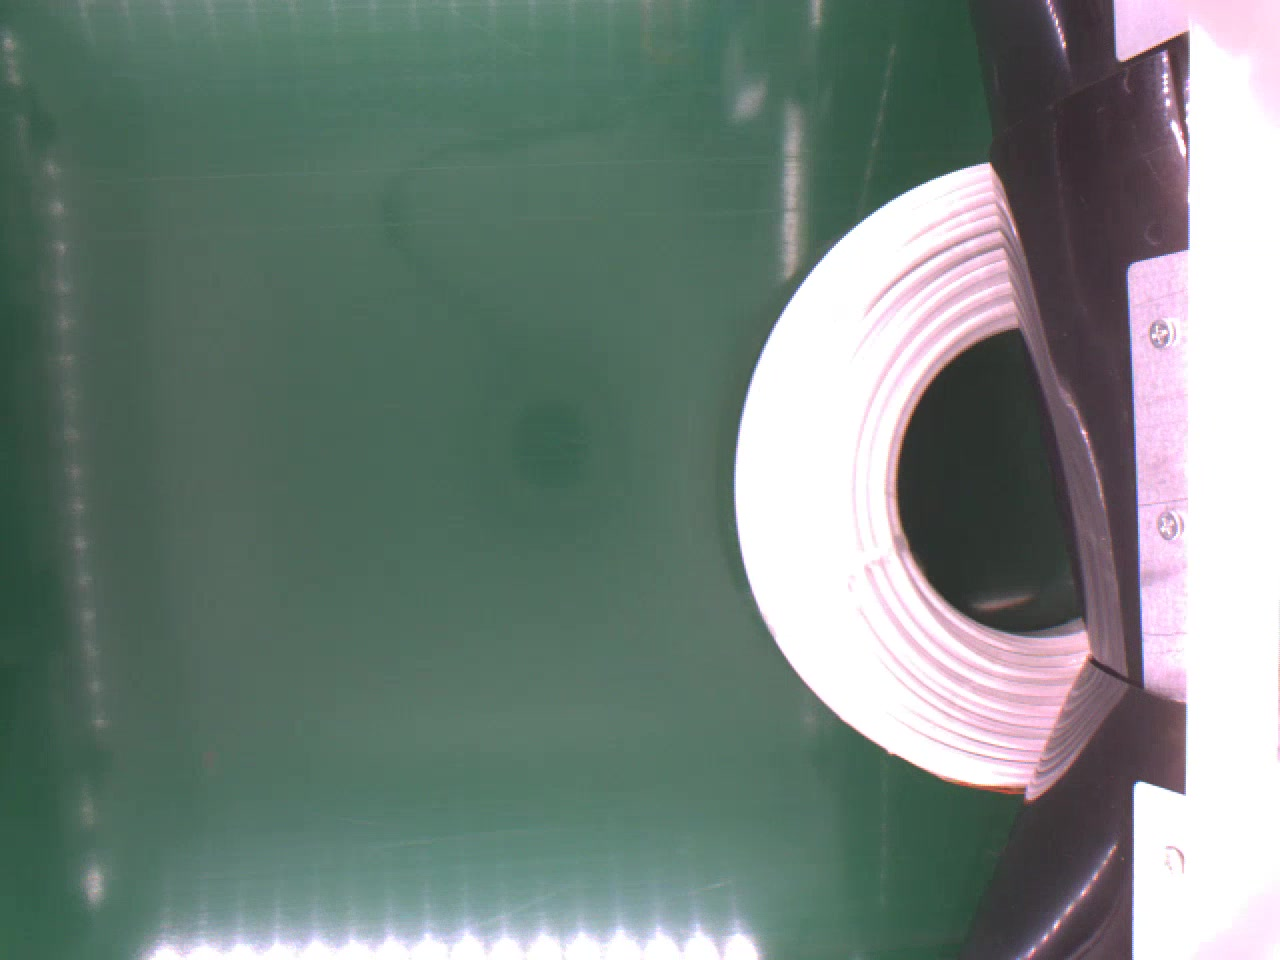white: (734, 157, 1093, 800)
